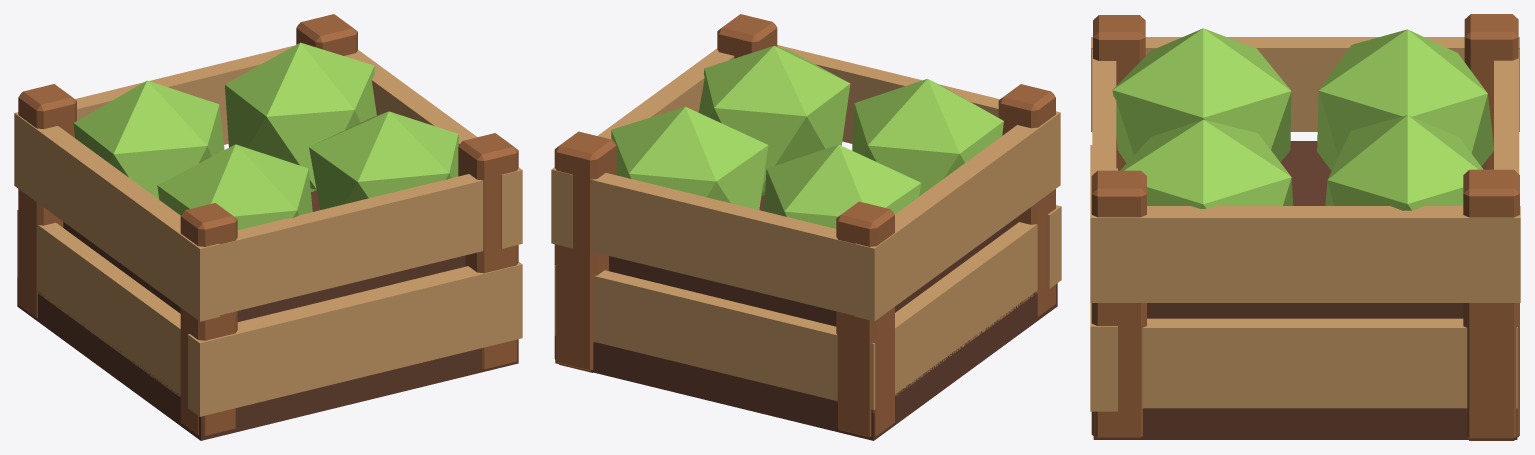
File: Crate_Cabbage.fbx
The picture shows the model from 3 angles, left to right: view 1: azimuth 30°, elevation 25°; view 2: azimuth 150°, elevation 25°; view 3: azimuth 270°, elevation 25°; orthographic projection. The views are drawn at different scales.
Parts seen in each view (by area): view 1: Crate_Cabbage; view 2: Crate_Cabbage; view 3: Crate_Cabbage.
Part boxes in pixels (left/top/right/bottom): Crate_Cabbage: left=14, top=14, right=522, bottom=440; Crate_Cabbage: left=551, top=14, right=1061, bottom=440; Crate_Cabbage: left=1090, top=14, right=1520, bottom=440.
Size of the model in its own units: 0.7162 by 0.5171 by 0.7162.
